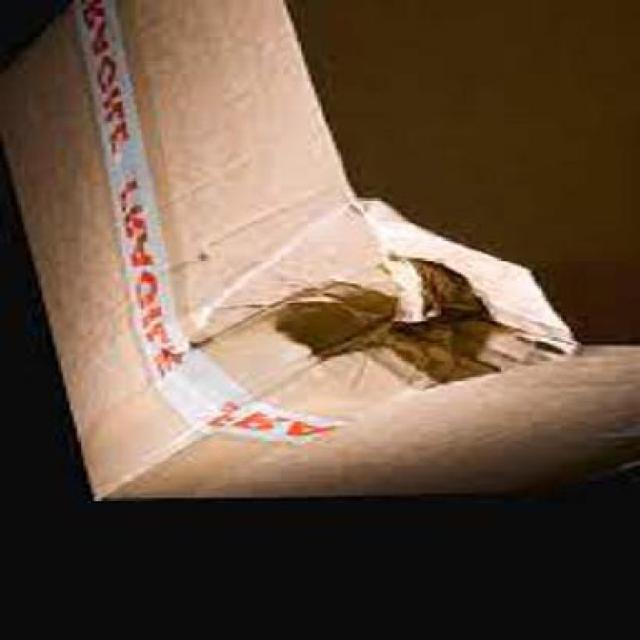defect: (7, 1, 640, 512)
